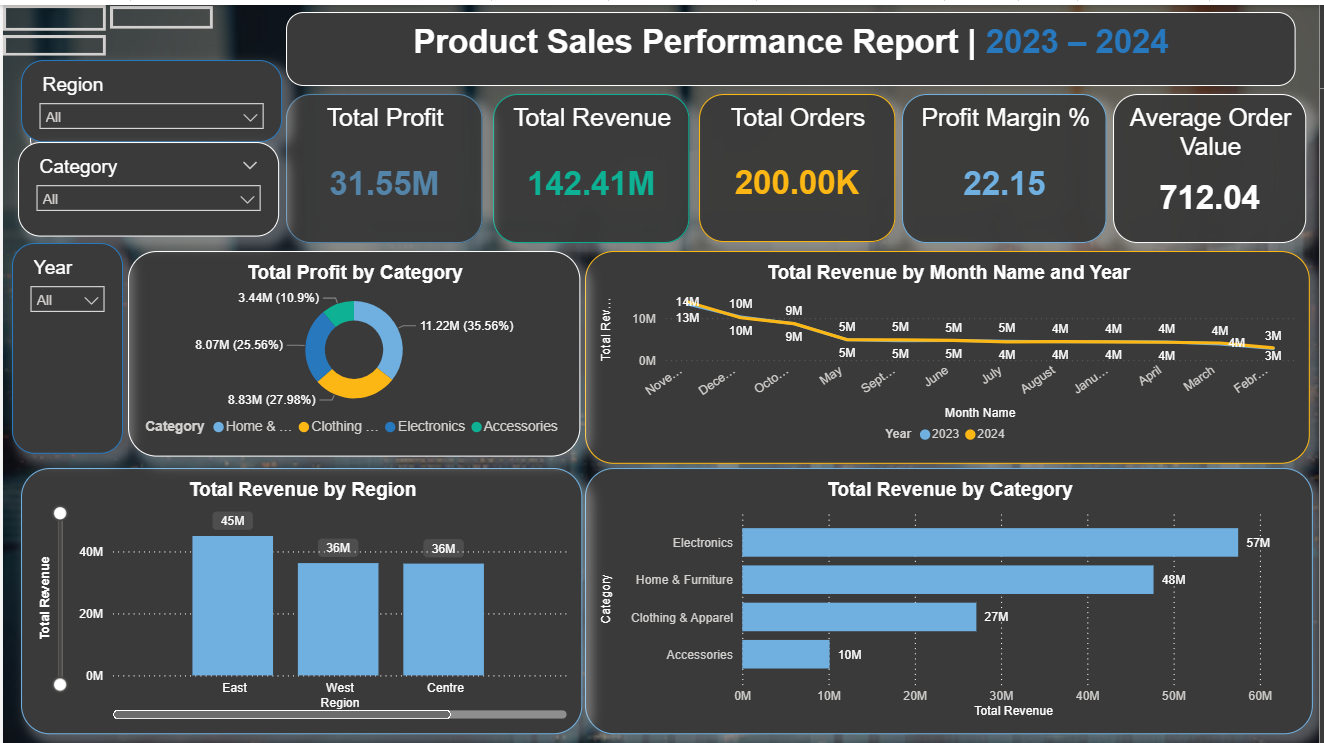

This screenshot's page, from the dashboard's own definition file:
{"tool":"powerbi","page":{"name":"Overview","canvas":[1280,720],"ordinal":0},"visuals":[{"type":"card","title":"Total Revenue","fields":{"Values":["Sum(product_sales_dataset_final.Revenue)"]},"box":[476.6,86.6,190.6,144.9],"z":0},{"type":"card","title":"Total Profit","fields":{"Values":["Sum(product_sales_dataset_final.Profit)"]},"box":[275.3,86.6,190.6,144.9],"z":1000},{"type":"card","title":"Total Orders","fields":{"Values":["product_sales_dataset_final.Total Orders"]},"box":[677,86.6,190.6,144],"z":2000},{"type":"card","title":"Profit Margin %","fields":{"Values":["product_sales_dataset_final.Profit Margin %"]},"box":[874.4,86.6,199.4,144.9],"z":3000},{"type":"card","title":"Average Order Value","fields":{"Values":["product_sales_dataset_final.Avg Order Value"]},"box":[1079.6,86.6,187.7,144.9],"z":4000},{"type":"lineChart","fields":{"Series":["DateTable.Year"],"Y":["product_sales_dataset_final.Total Revenue"],"Category":["DateTable.Month Name"]},"box":[566.1,239.3,705.2,207.2],"z":5000},{"type":"clusteredBarChart","fields":{"Category":["product_sales_dataset_final.Category"],"Y":["product_sales_dataset_final.Total Revenue"]},"box":[566.1,450.3,708.1,258.7],"z":6000},{"type":"clusteredColumnChart","fields":{"Category":["product_sales_dataset_final.Region"],"Y":["product_sales_dataset_final.Total Revenue"]},"box":[17.5,450.3,545.7,258.7],"z":7000},{"type":"donutChart","fields":{"Category":["product_sales_dataset_final.Category"],"Y":["product_sales_dataset_final.Total Profit"]},"box":[121.6,239.3,439.6,200.4],"z":8000},{"type":"slicer","fields":{"Values":["DateTable.Year"]},"box":[26.3,86.6,167.3,66.1],"z":9000},{"type":"slicer","fields":{"Values":["product_sales_dataset_final.Region"]},"box":[17.5,53.5,253.9,79.8],"z":10000},{"type":"slicer","fields":{"Values":["product_sales_dataset_final.Category"]},"box":[14.6,133.3,253.9,92.4],"z":11000},{"type":"slicer","fields":{"Values":["DateTable.Year"]},"box":[8.8,231.5,108,205.2],"z":12000},{"type":"textbox","box":[275.3,6.8,982.4,72],"z":13000},{"type":"actionButton","box":[0,0,100.2,25.3],"z":14000},{"type":"actionButton","box":[0,29.2,100.2,20.4],"z":15000},{"type":"actionButton","box":[104.1,1,100.2,22.4],"z":16000}]}

Visuals, with their boxes in screenshot pixels (x1, y1, x2, y2), scaled from the page's 1280x720 canvas onto the 1324x743 screenshot:
"Total Revenue" card: region(493, 89, 690, 239)
"Total Profit" card: region(285, 89, 482, 239)
"Total Orders" card: region(700, 89, 897, 238)
"Profit Margin %" card: region(904, 89, 1111, 239)
"Average Order Value" card: region(1117, 89, 1311, 239)
lineChart - DateTable.Year x product_sales_dataset_final.Total Revenue: region(586, 247, 1315, 461)
clusteredBarChart - product_sales_dataset_final.Category x product_sales_dataset_final.Total Revenue: region(586, 465, 1318, 732)
clusteredColumnChart - product_sales_dataset_final.Region x product_sales_dataset_final.Total Revenue: region(18, 465, 583, 732)
donutChart - product_sales_dataset_final.Category x product_sales_dataset_final.Total Profit: region(126, 247, 580, 454)
slicer - DateTable.Year: region(27, 89, 200, 158)
slicer - product_sales_dataset_final.Region: region(18, 55, 281, 138)
slicer - product_sales_dataset_final.Category: region(15, 138, 278, 233)
slicer - DateTable.Year: region(9, 239, 121, 451)
textbox: region(285, 7, 1301, 81)
actionButton: region(0, 0, 104, 26)
actionButton: region(0, 30, 104, 51)
actionButton: region(108, 1, 211, 24)
